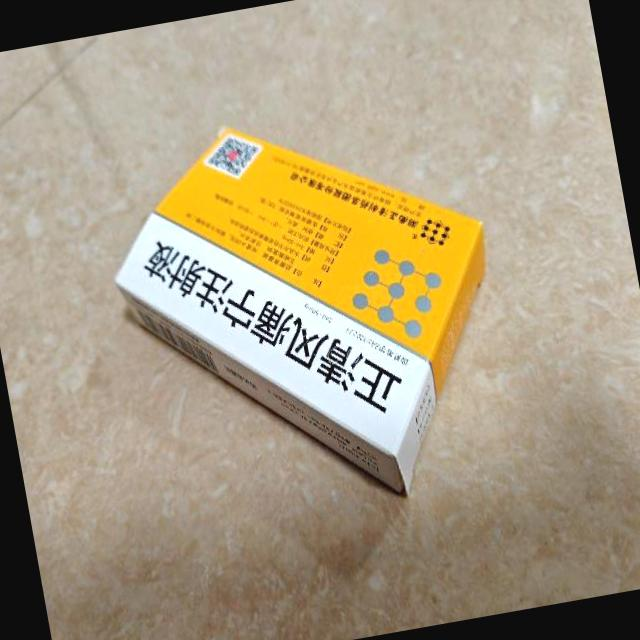box: (90, 85, 528, 538)
